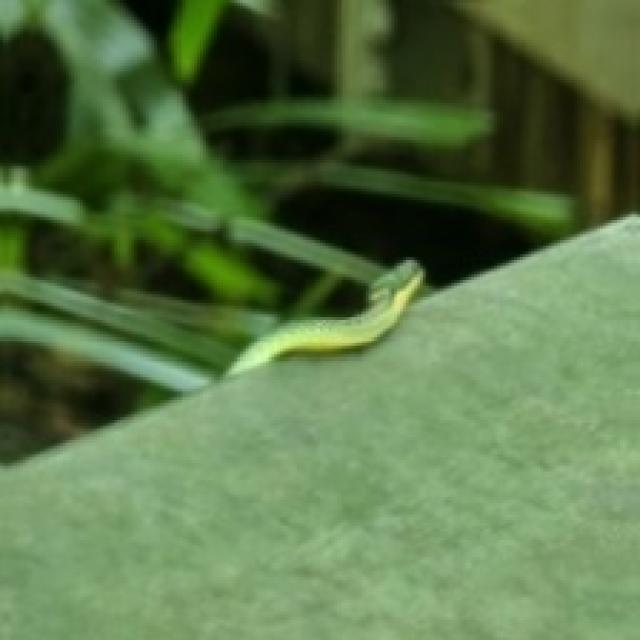paradise tree snake: (0, 260, 420, 389), (226, 260, 423, 374)
